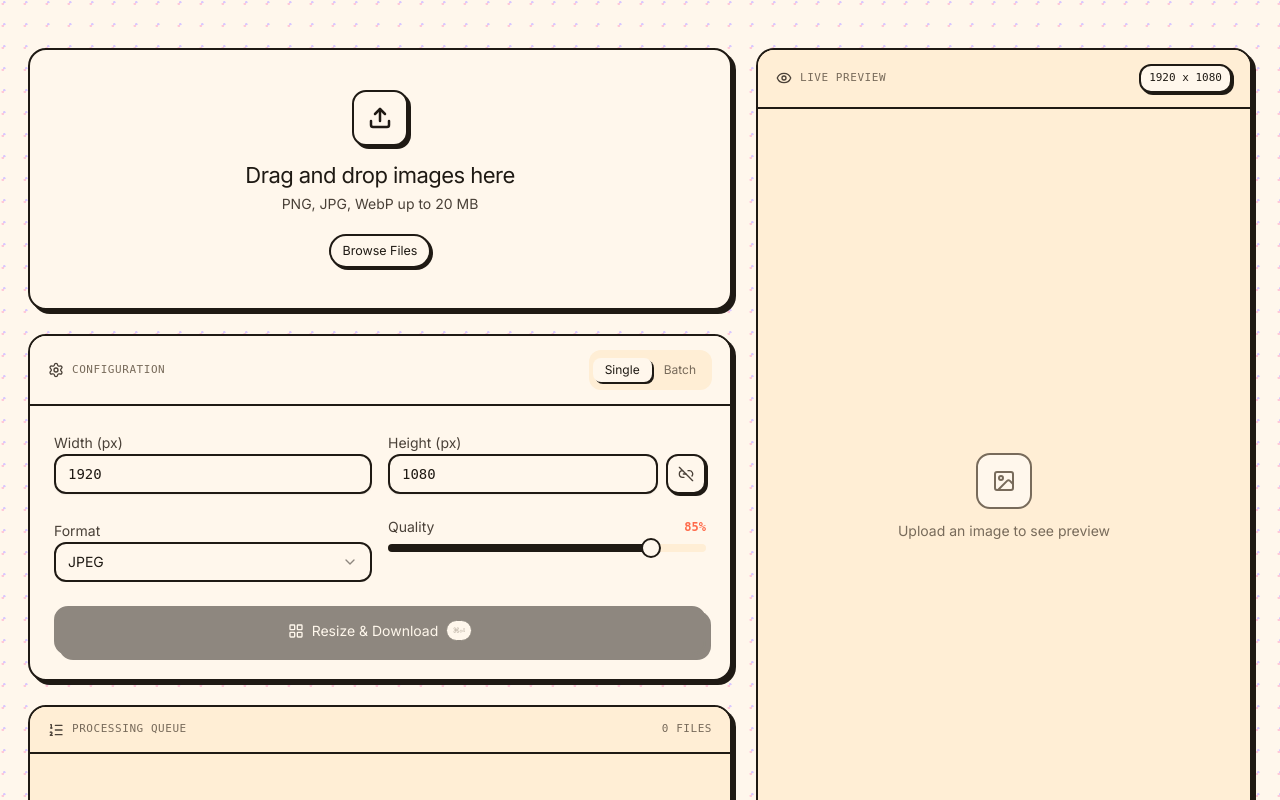
ImageResizerRoute › renders format select with all options
The image size is (1280, 800).
Note: Open select to verify options exist (Radix listens to pointerdown)
Press the mouse on the dropdown at (86, 562), box [54,542,372,582]
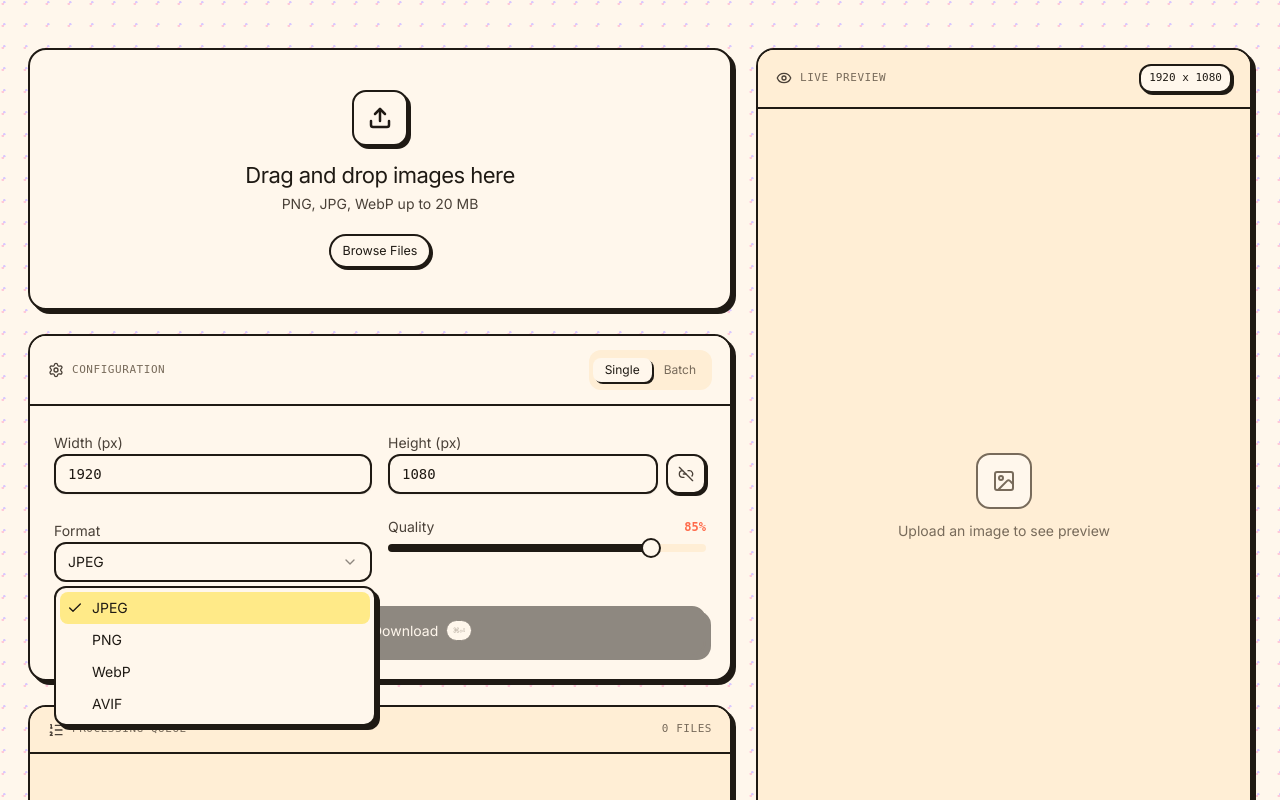
Expected: the option "PNG" is shown, [92,631,122,648]
Expected: the option "WebP" is shown, [92,663,131,680]
Expected: the option "AVIF" is shown, [92,695,122,712]
